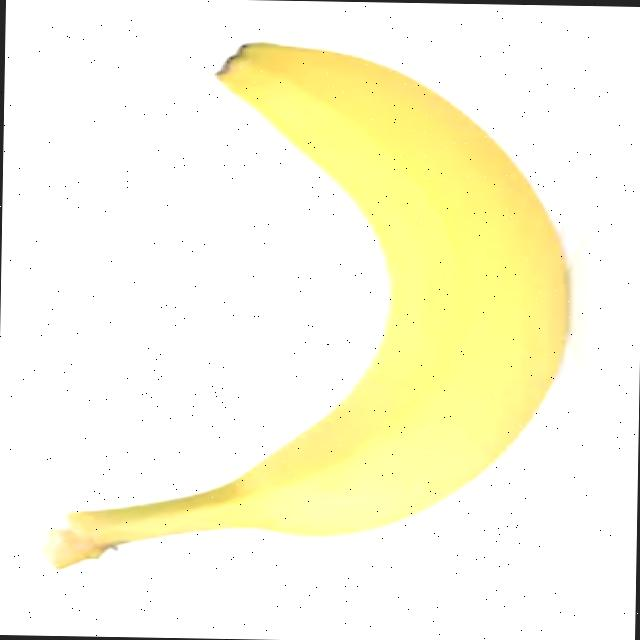Ripe: (54, 34, 578, 550)
